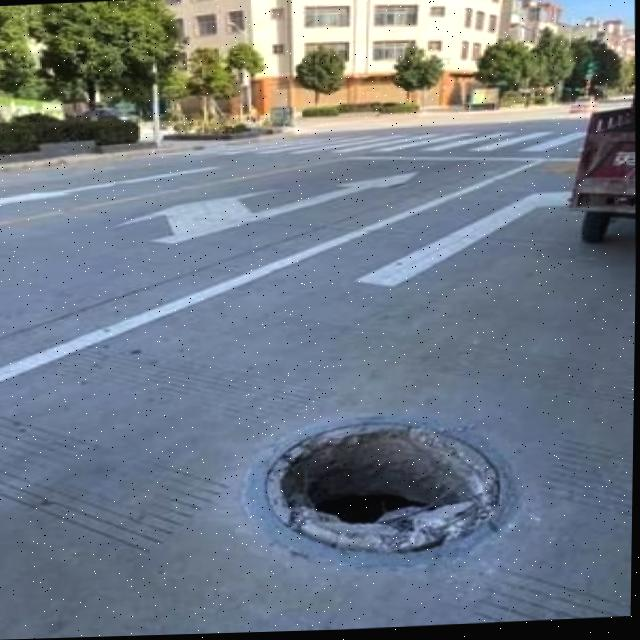manhole: (243, 415, 531, 567)
